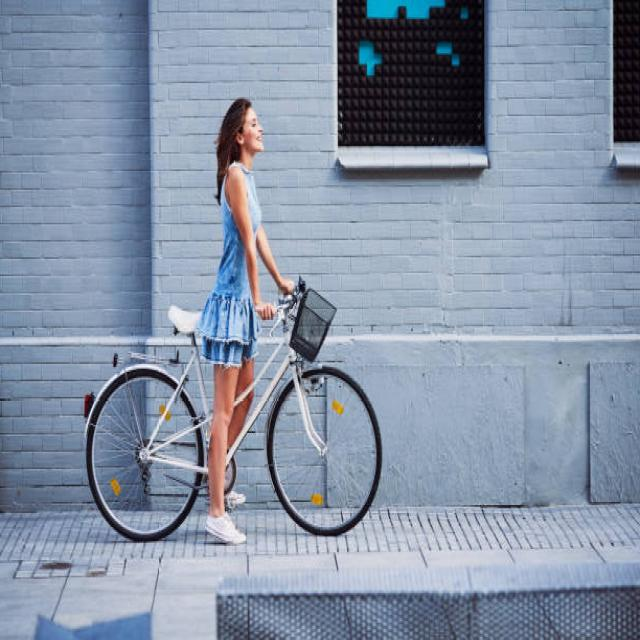bicycle: (86, 99, 381, 543)
